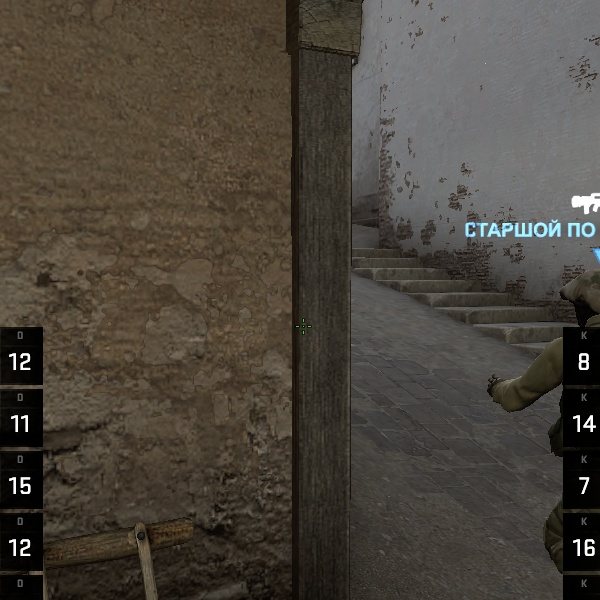t_head: (561, 266, 598, 337)
